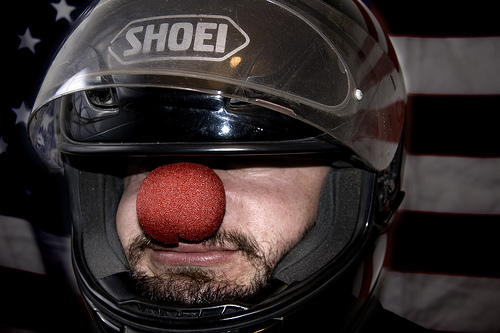helmet: (41, 6, 404, 323)
